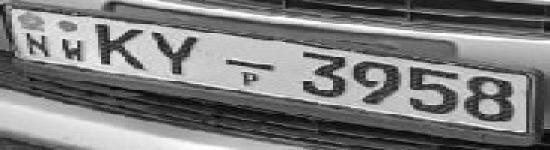-: (224, 57, 278, 72)
3: (293, 48, 350, 100)
5: (403, 62, 463, 116)
8: (463, 72, 518, 124)
9: (148, 29, 204, 78), (351, 56, 402, 105)
K: (88, 21, 148, 71)
N: (22, 32, 54, 57)
W: (57, 37, 89, 62)
